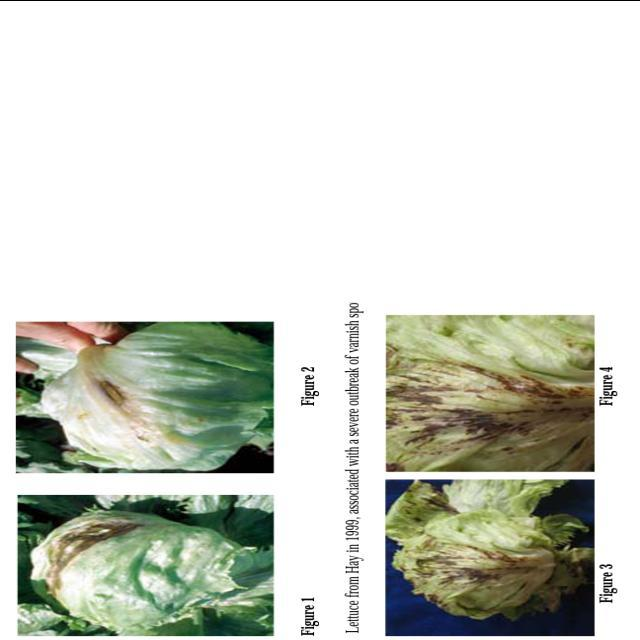Baby: (21, 498, 267, 631), (41, 345, 266, 468), (390, 339, 586, 457), (418, 520, 568, 606)
